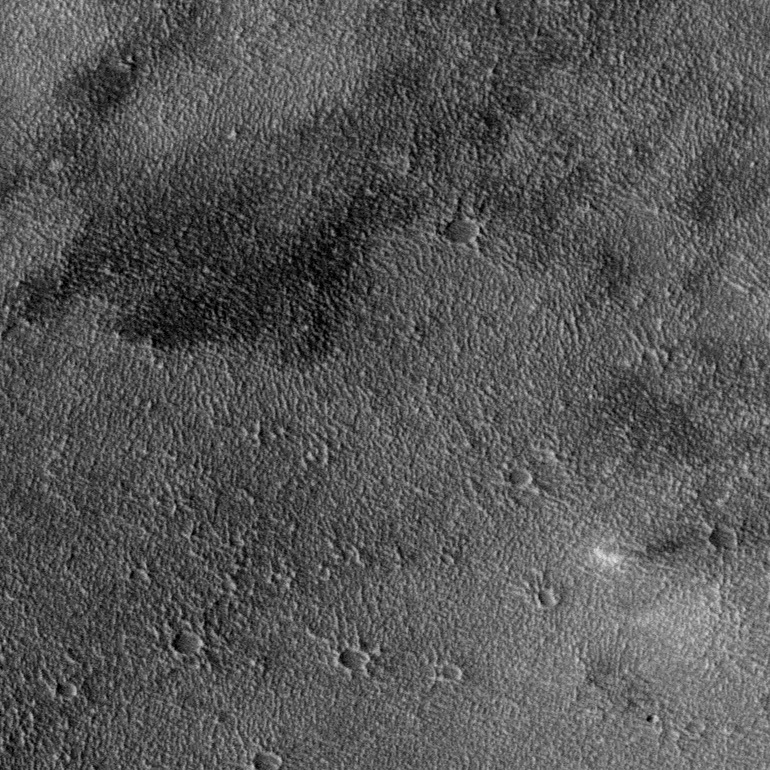dust_devil: (591, 535, 685, 565)
